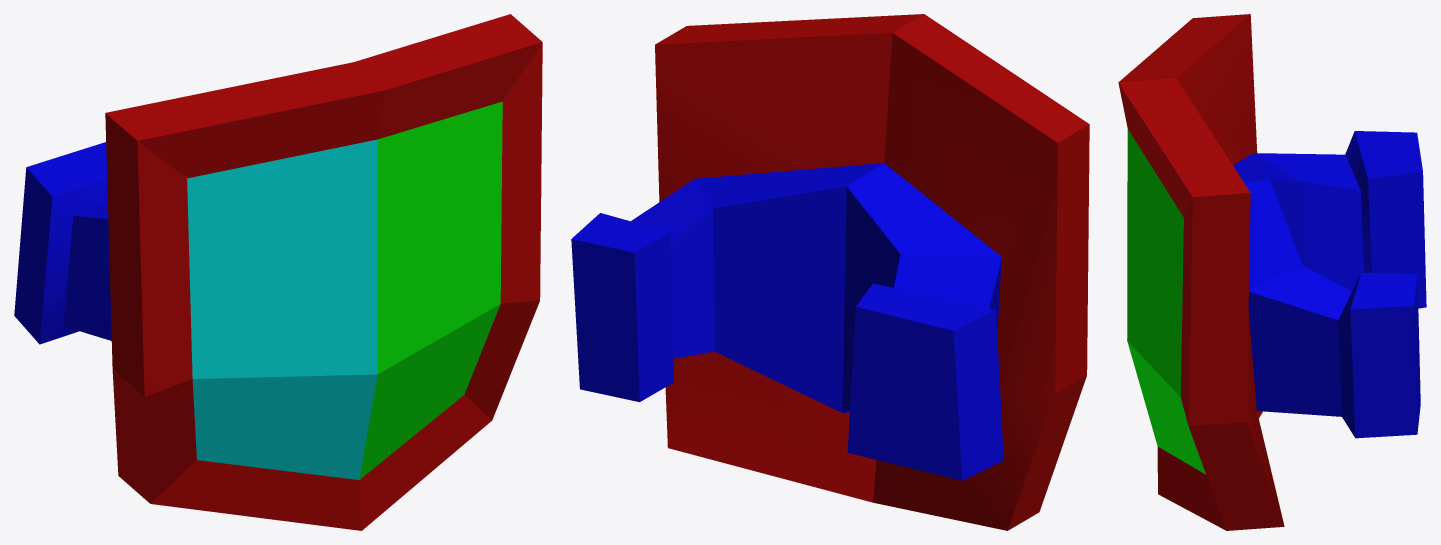
The model's file is Chr_KneeAttachLeft_Static_10.fbx.
The picture shows the model from 3 angles, left to right: view 1: azimuth 30°, elevation 25°; view 2: azimuth 150°, elevation 25°; view 3: azimuth 270°, elevation 25°; orthographic projection. The views are drawn at different scales.
Visible parts, largest first — view 1: Chr_KneeAttachLeft_10; view 2: Chr_KneeAttachLeft_10; view 3: Chr_KneeAttachLeft_10.
Part boxes in pixels (x1,y1,x2,y2): Chr_KneeAttachLeft_10: (14,14,542,530); Chr_KneeAttachLeft_10: (571,14,1089,530); Chr_KneeAttachLeft_10: (1118,14,1426,530).
Bounding box in the file's own units: 15.13 × 16.21 × 10.86.
